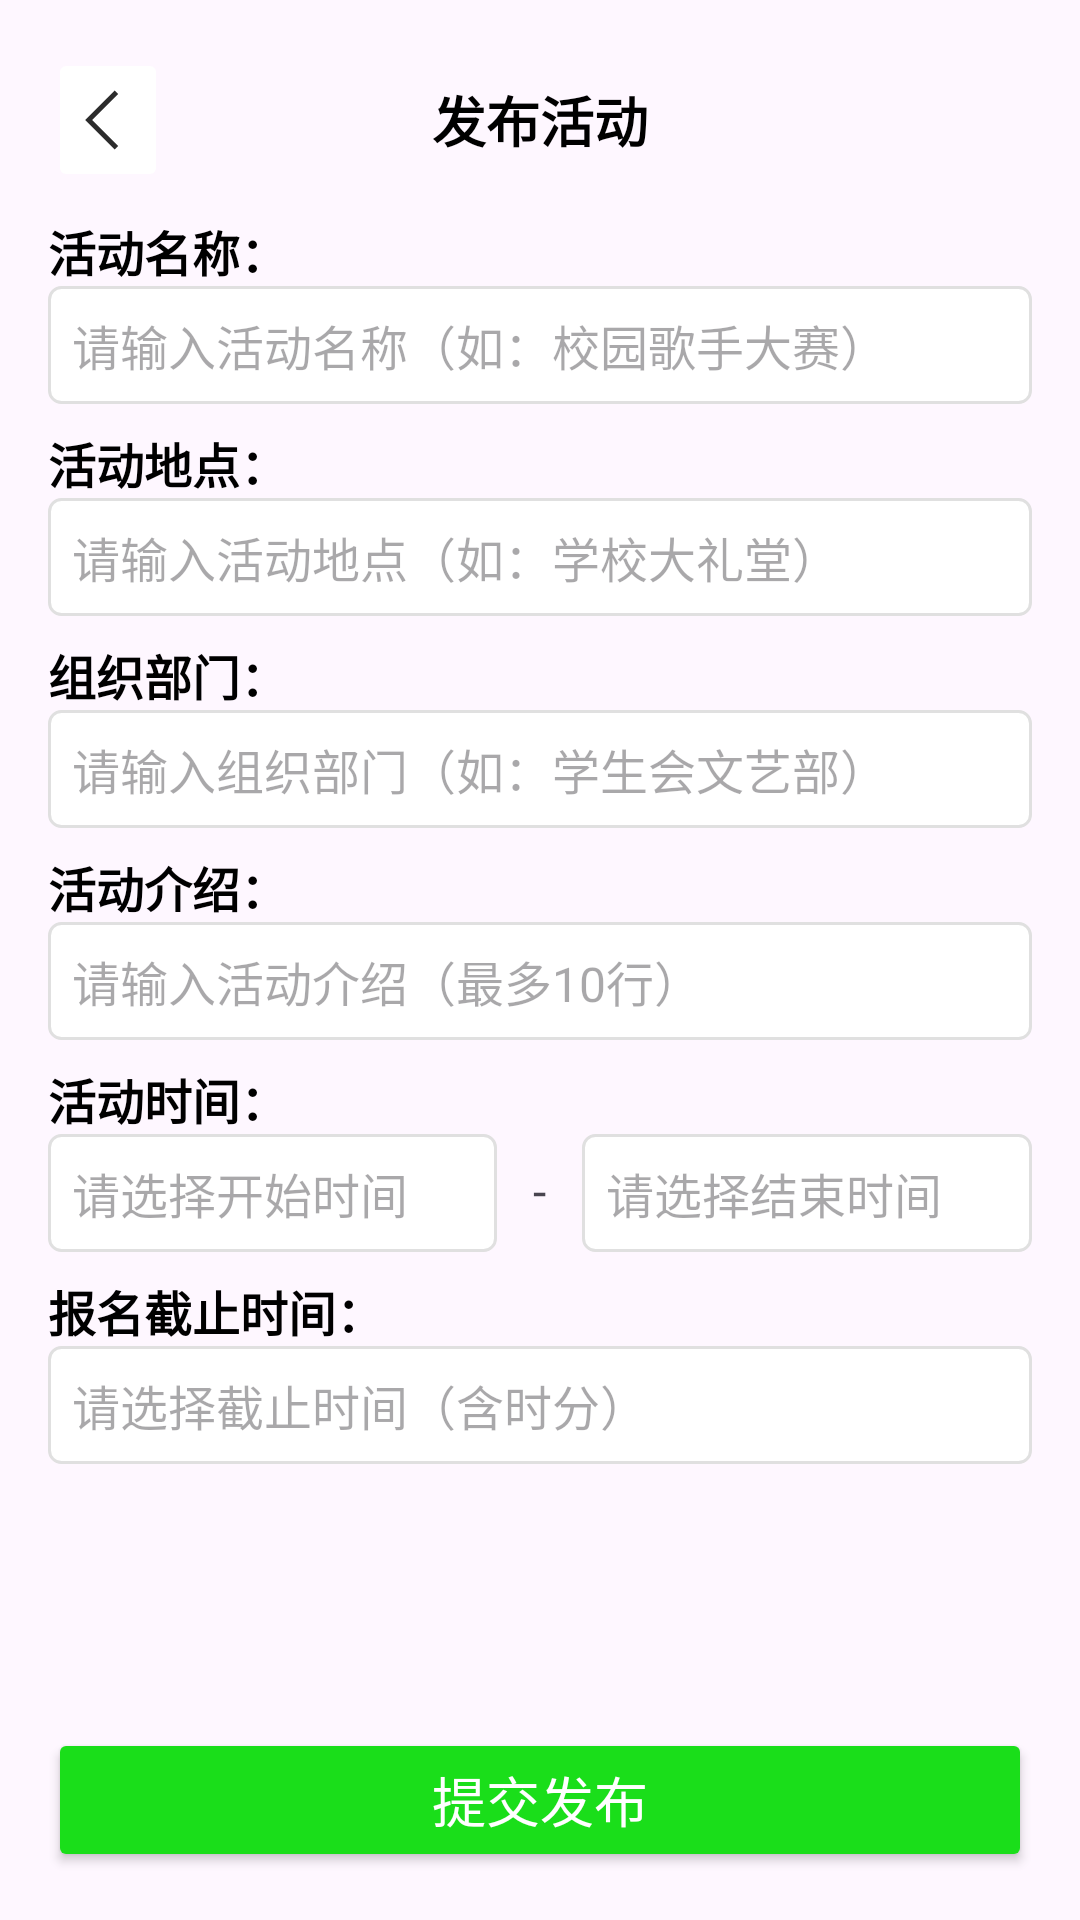

Where icons sit on this 1080px×1920px app screen, as (x1, y1, x2, y2):
back: (85, 90, 118, 150)
